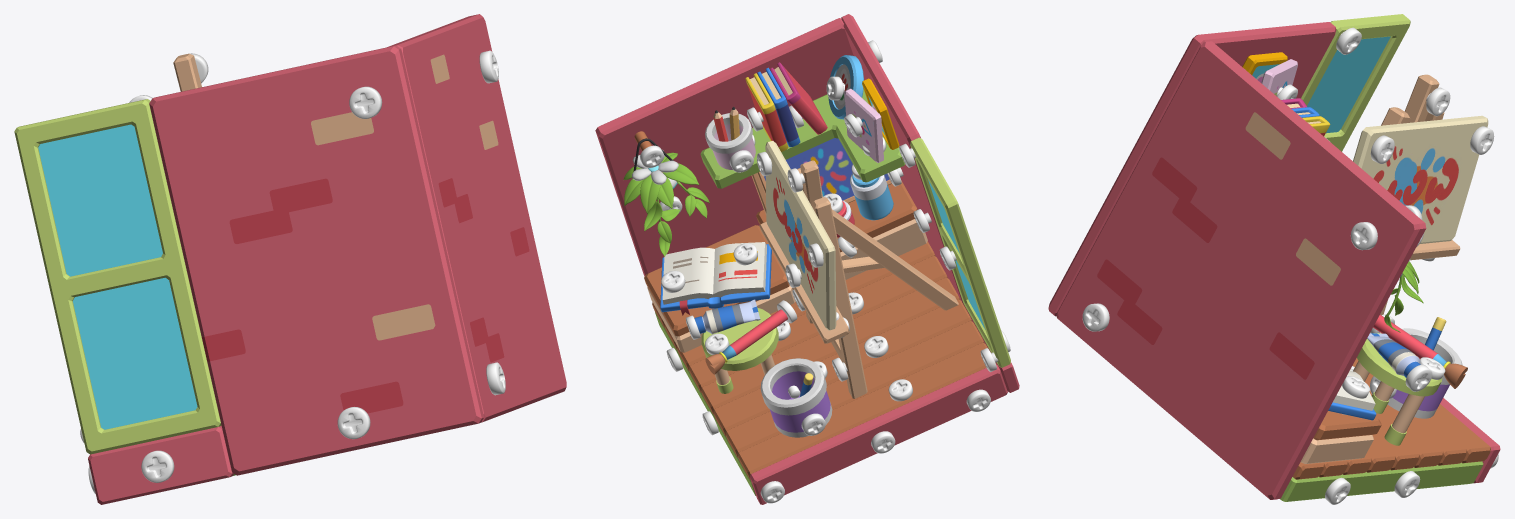
Rendered from Studio.fbx.
3 renders of one model, left to right at view 1: azimuth 30°, elevation 25°; view 2: azimuth 150°, elevation 25°; view 3: azimuth 270°, elevation 25°, orthographic. The views are drawn at different scales.
Visible parts, largest first — view 1: Studio_031, Studio_003, Studio_001, Studio_004, Screw (×3), Studio_024; view 2: Studio_001, Studio_006, Studio_007, Studio_002, Studio_025, Studio_013, Studio_003, Studio_008, Studio_012, Studio_011, Studio_031, Studio_022 (+20 smaller); view 3: Studio_001, Studio_025, Studio_031, Studio_003, Screw (×7), Studio_037, Studio_032, Studio_006, Studio_007, Studio_022, Studio_039, Studio_024 (+11 smaller).
Boxes of the visible parts, x1,y1,x2,y2 form: Studio_031: [149, 45, 483, 475]; Studio_003: [14, 99, 221, 454]; Studio_001: [387, 14, 566, 422]; Studio_004: [88, 426, 233, 504]; Screw (×3): [141, 86, 382, 482]; Studio_024: [173, 53, 201, 91]; Studio_001: [595, 18, 853, 276]; Studio_006: [725, 320, 996, 479]; Studio_007: [701, 277, 972, 436]; Studio_002: [749, 364, 1007, 504]; Studio_025: [765, 141, 836, 330]; Studio_013: [660, 242, 771, 315]; Studio_003: [910, 137, 1010, 367]; Studio_008: [676, 241, 947, 392]; Studio_012: [623, 131, 709, 256]; Studio_011: [700, 89, 905, 188]; Studio_031: [841, 14, 964, 306]; Studio_022: [760, 358, 832, 437]; Studio_001: [1056, 41, 1426, 499]; Studio_025: [1353, 115, 1488, 243]; Studio_031: [1048, 22, 1336, 316]; Studio_003: [1301, 14, 1410, 151]; Screw (×7): [1082, 27, 1494, 391]; Studio_037: [1280, 461, 1483, 501]; Studio_032: [1353, 333, 1442, 445]; Studio_006: [1352, 358, 1490, 465]; Studio_007: [1369, 390, 1443, 470]; Studio_022: [1387, 317, 1462, 418]; Studio_039: [1300, 435, 1373, 463]; Studio_024: [1357, 74, 1444, 358].
Bounding box in the file's own units: 10.51 × 11.2 × 9.83.
Materials: 4 (2 with a texture image).
